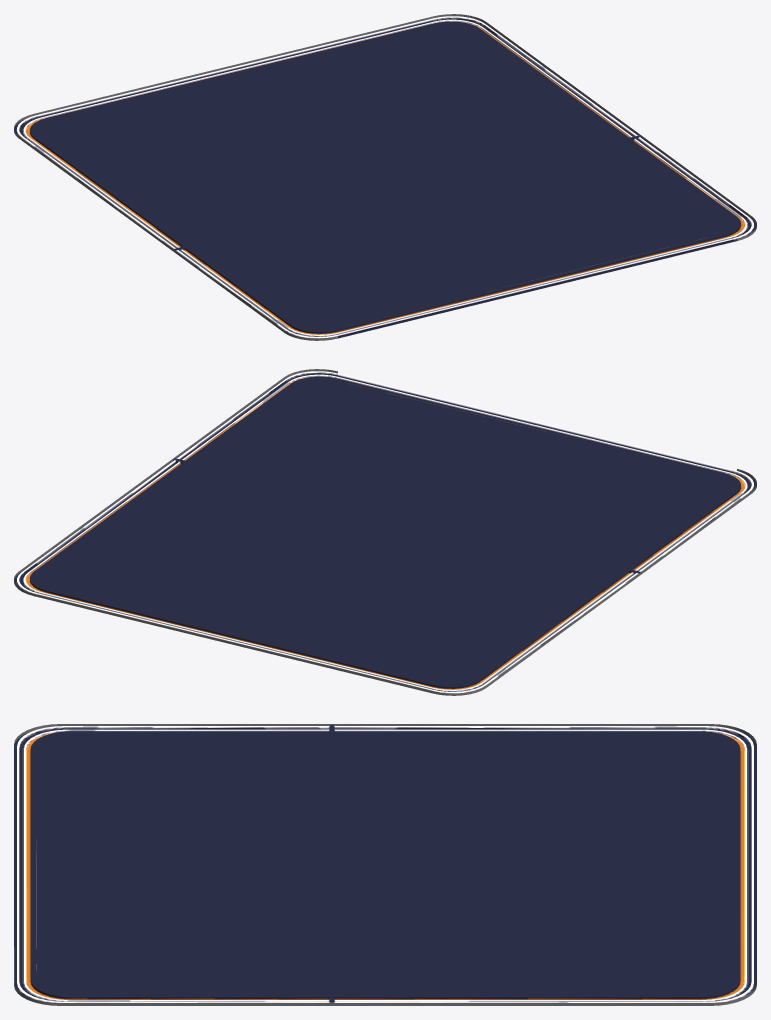
File: Roof.fbx
3 views of the same model, one above another, from view 1: azimuth 30°, elevation 25°; view 2: azimuth 150°, elevation 25°; view 3: azimuth 270°, elevation 25° (orthographic). The views are drawn at different scales.
Parts seen in each view (by area): view 1: Roof; view 2: Roof; view 3: Roof.
Boxes of the visible parts, x1,y1,x2,y2 form: Roof: [14, 14, 756, 340]; Roof: [14, 369, 756, 695]; Roof: [14, 724, 756, 1005].
Bounding box in the file's own units: 4812 × 23.76 × 5415.
